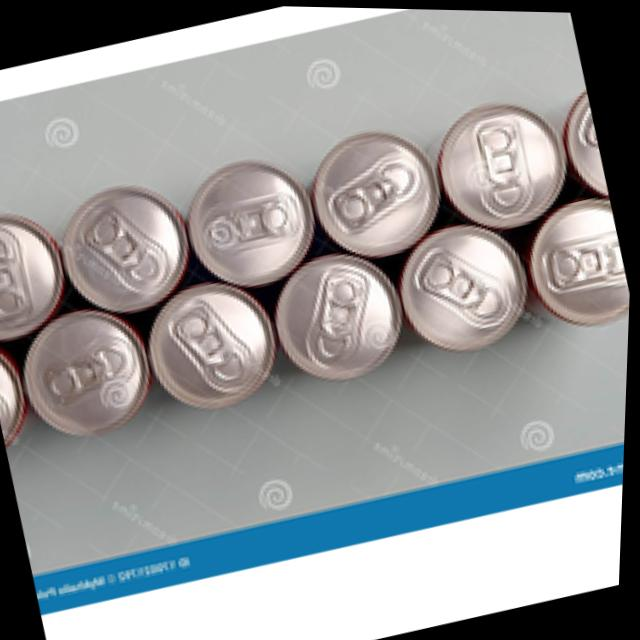aluminum_soda_cans: (45, 170, 199, 323), (388, 213, 539, 357), (176, 149, 326, 290), (431, 92, 572, 234), (138, 277, 283, 415), (302, 122, 442, 259), (267, 248, 403, 386), (22, 303, 158, 441), (523, 192, 635, 325), (0, 202, 76, 333), (552, 82, 614, 204), (0, 331, 42, 450)
